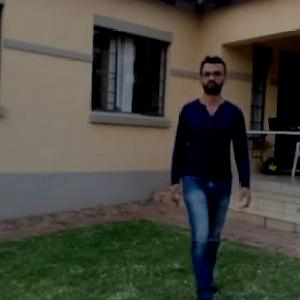follow: (167, 49, 245, 299)
